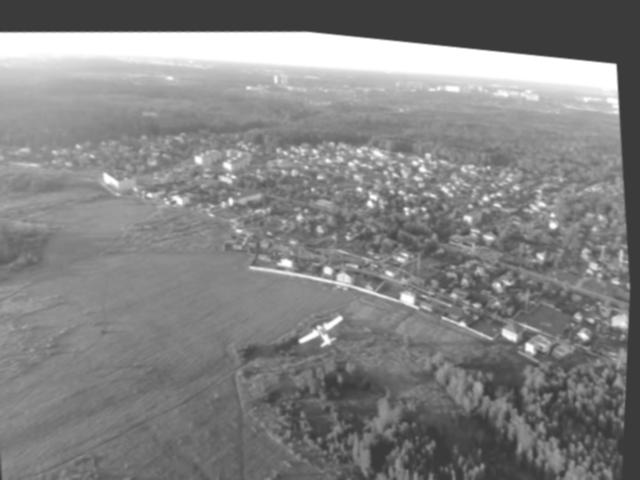hedef: (289, 290, 359, 360)
